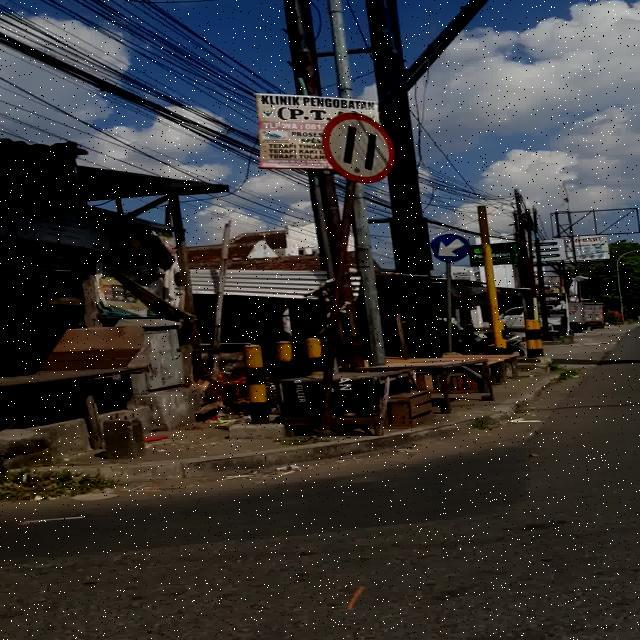Larangan Muatan - 10 ton: (322, 112, 395, 182)
